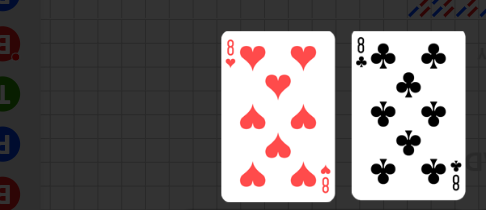8C: (355, 35, 369, 69)
8H: (224, 38, 237, 70)
